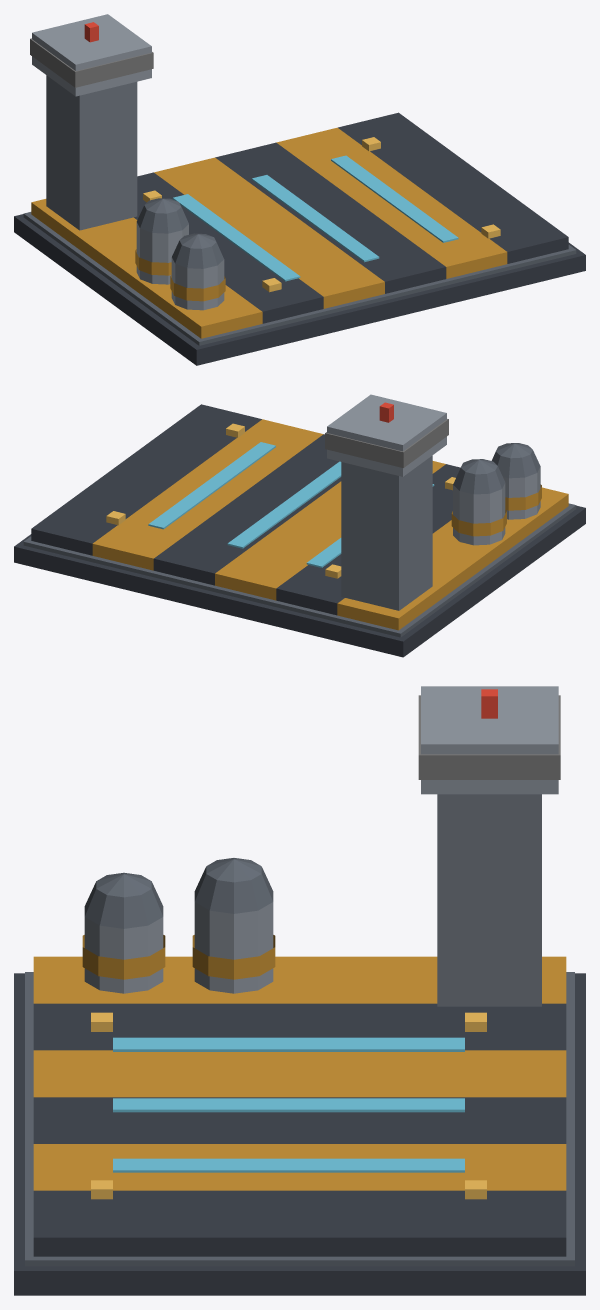
The model's file is starport.obj.
3 renders of one model, top to bottom at view 1: azimuth 30°, elevation 25°; view 2: azimuth 150°, elevation 25°; view 3: azimuth 270°, elevation 25°, orthographic. The views are drawn at different scales.
Visible parts, largest first — view 1: starport; view 2: starport; view 3: starport.
Boxes of the visible parts, left/top/right/bottom form: starport: left=14, top=14, right=585, bottom=365; starport: left=14, top=394, right=585, bottom=657; starport: left=14, top=686, right=585, bottom=1295.
Bounding box in the file's own units: 12.8 × 6.85 × 10.4.
